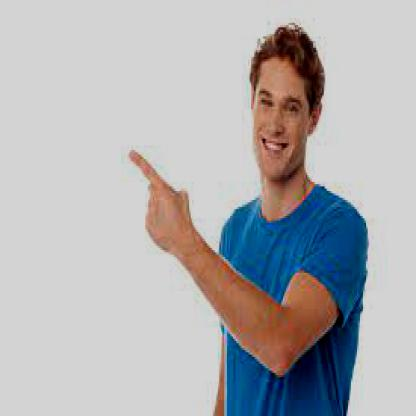Right: (116, 140, 202, 272)
